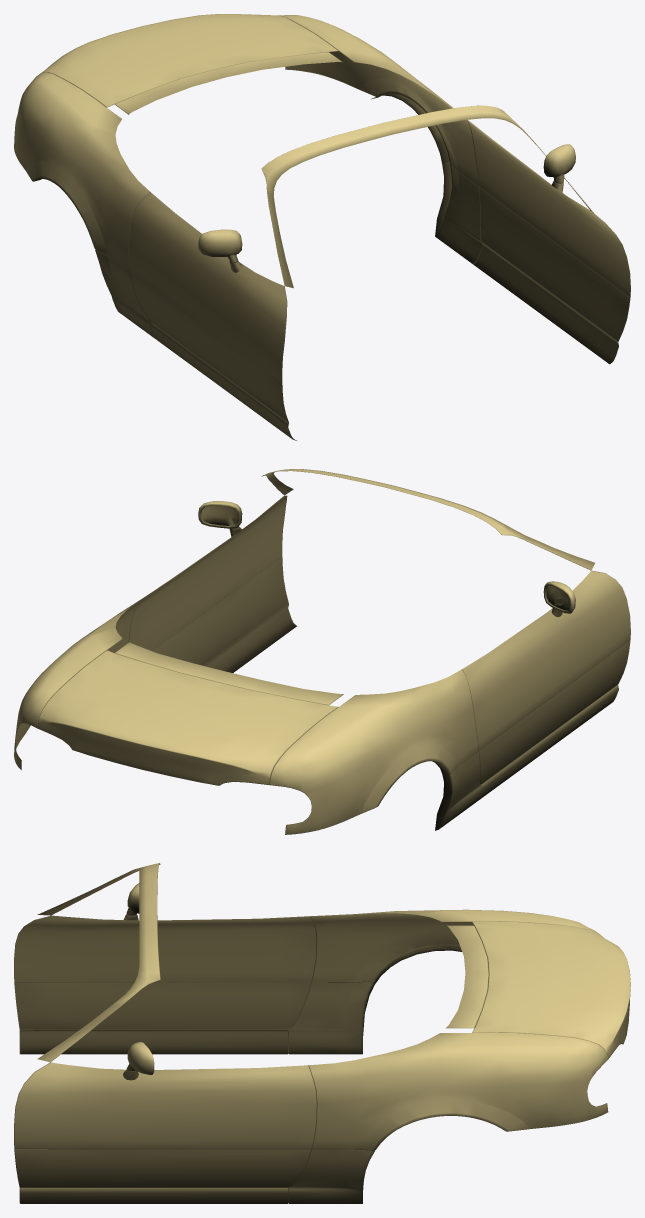
The model's file is MX5_Chassis_Duco.fbx.
3 views of the same model, one above another, from view 1: azimuth 30°, elevation 25°; view 2: azimuth 150°, elevation 25°; view 3: azimuth 270°, elevation 25° (orthographic). The views are drawn at different scales.
Visible parts, largest first — view 1: MX5_Chassis_Duco; view 2: MX5_Chassis_Duco; view 3: MX5_Chassis_Duco.
Part boxes in pixels (left/top/right/bottom): MX5_Chassis_Duco: left=14, top=14, right=630, bottom=440; MX5_Chassis_Duco: left=14, top=469, right=630, bottom=834; MX5_Chassis_Duco: left=14, top=863, right=630, bottom=1203.
Bounding box in the file's own units: 170 × 99.07 × 247.
